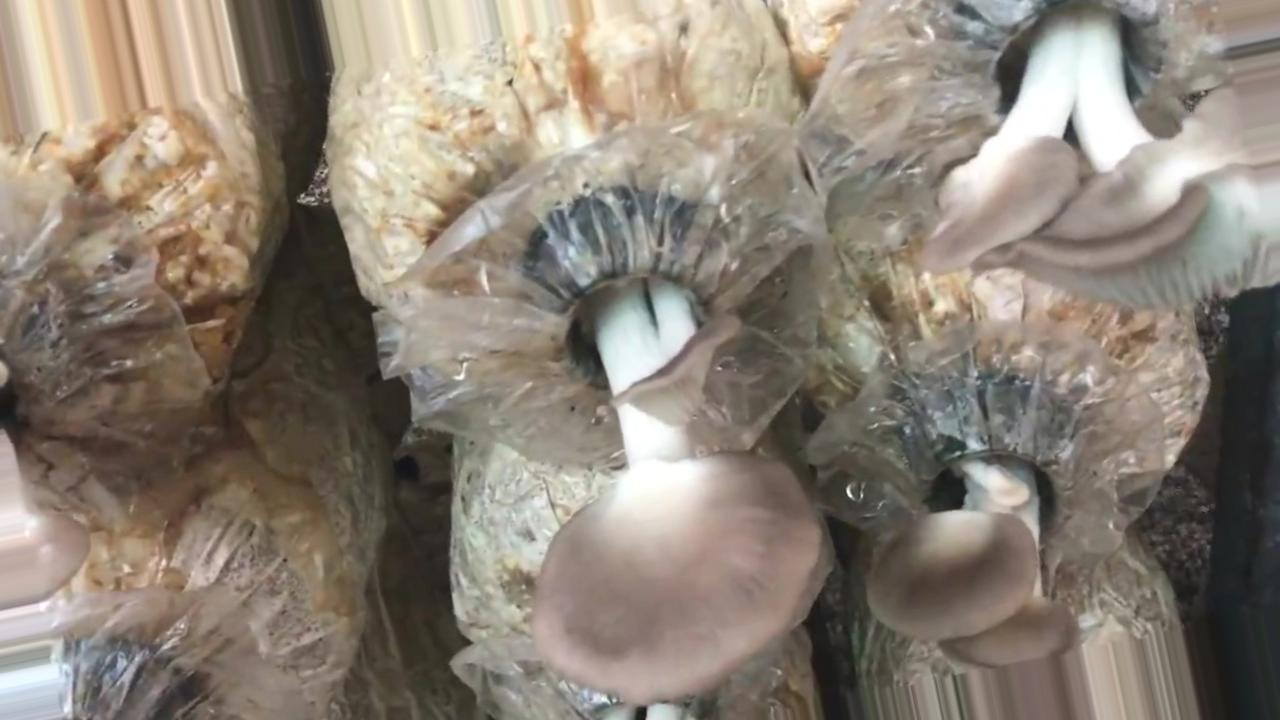nam: (534, 193, 824, 707), (889, 2, 1280, 317), (867, 395, 1086, 675), (1, 432, 93, 614)
